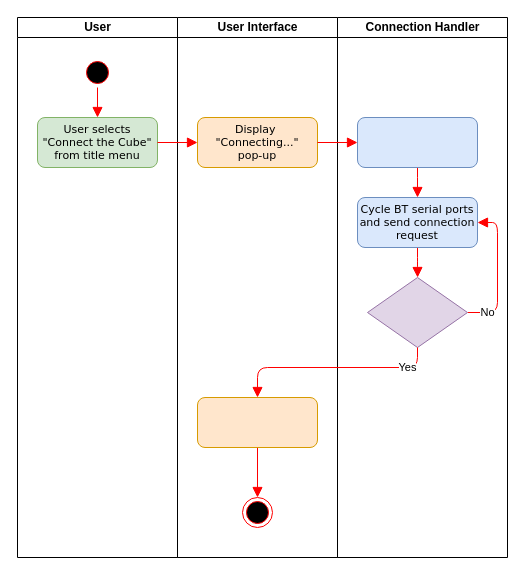
The diagram is 525 pixels wide and 575 high, and some of its shapes have lost their labels. The shapes that lost their labels are listed below. From the top down, each one's box as (x1, y1, x2, y2) in pixels, then its label:
(356, 116, 478, 168): Start ConnectionHandler thread
(366, 276, 468, 348): Connection successful?
(196, 396, 318, 448): Display "Connection successful"
